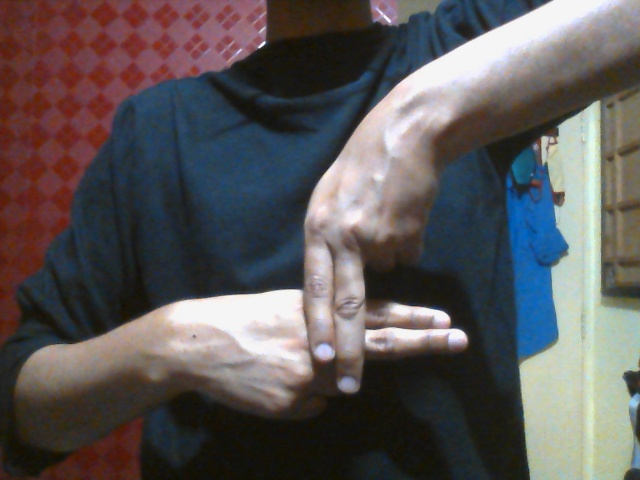F: (187, 131, 471, 422)
